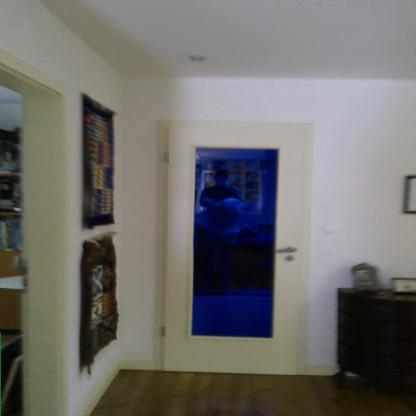door: (166, 122, 304, 378)
hinged: (163, 151, 169, 163), (161, 325, 166, 337)
lever: (268, 246, 298, 256)
